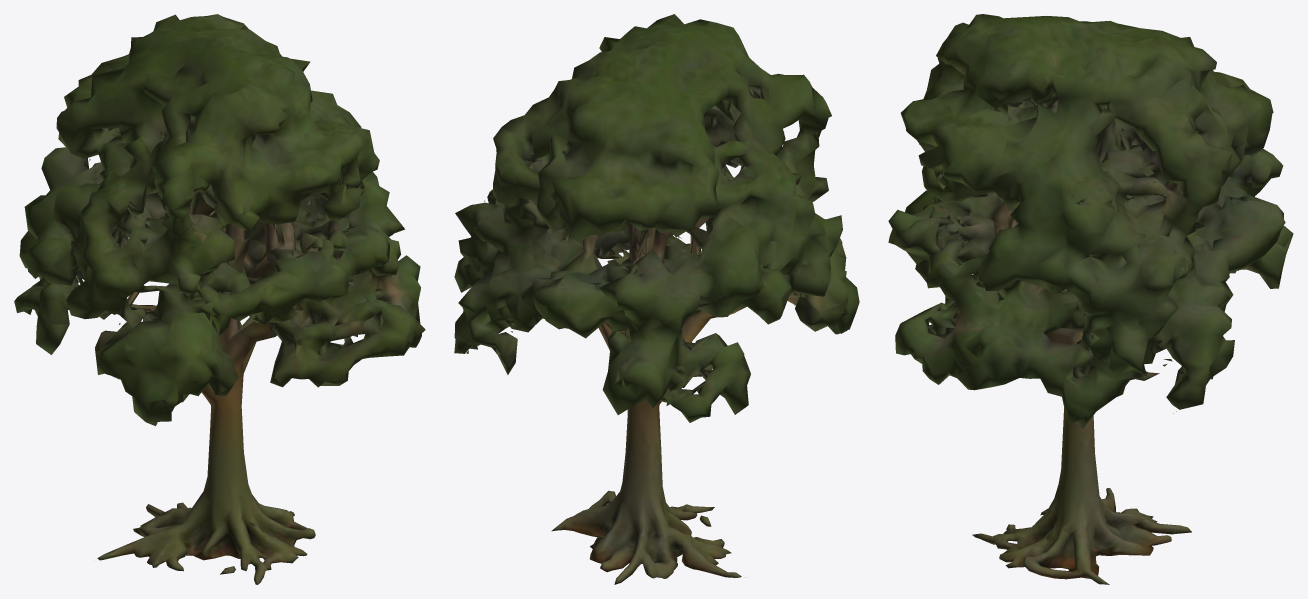
The model's file is tree-balanced.glb.
The picture shows the model from 3 angles, left to right: view 1: azimuth 30°, elevation 25°; view 2: azimuth 150°, elevation 25°; view 3: azimuth 270°, elevation 25°; orthographic projection. The views are drawn at different scales.
Parts seen in each view (by area): view 1: Source-derived tree remesh; view 2: Source-derived tree remesh; view 3: Source-derived tree remesh.
Boxes of the visible parts, left/top/right/bottom form: Source-derived tree remesh: left=14, top=14, right=425, bottom=584; Source-derived tree remesh: left=454, top=14, right=859, bottom=584; Source-derived tree remesh: left=888, top=14, right=1293, bottom=584.
Bounding box in the file's own units: 0.6982 × 1 × 0.7051.
Materials: 1 (1 with a texture image).
